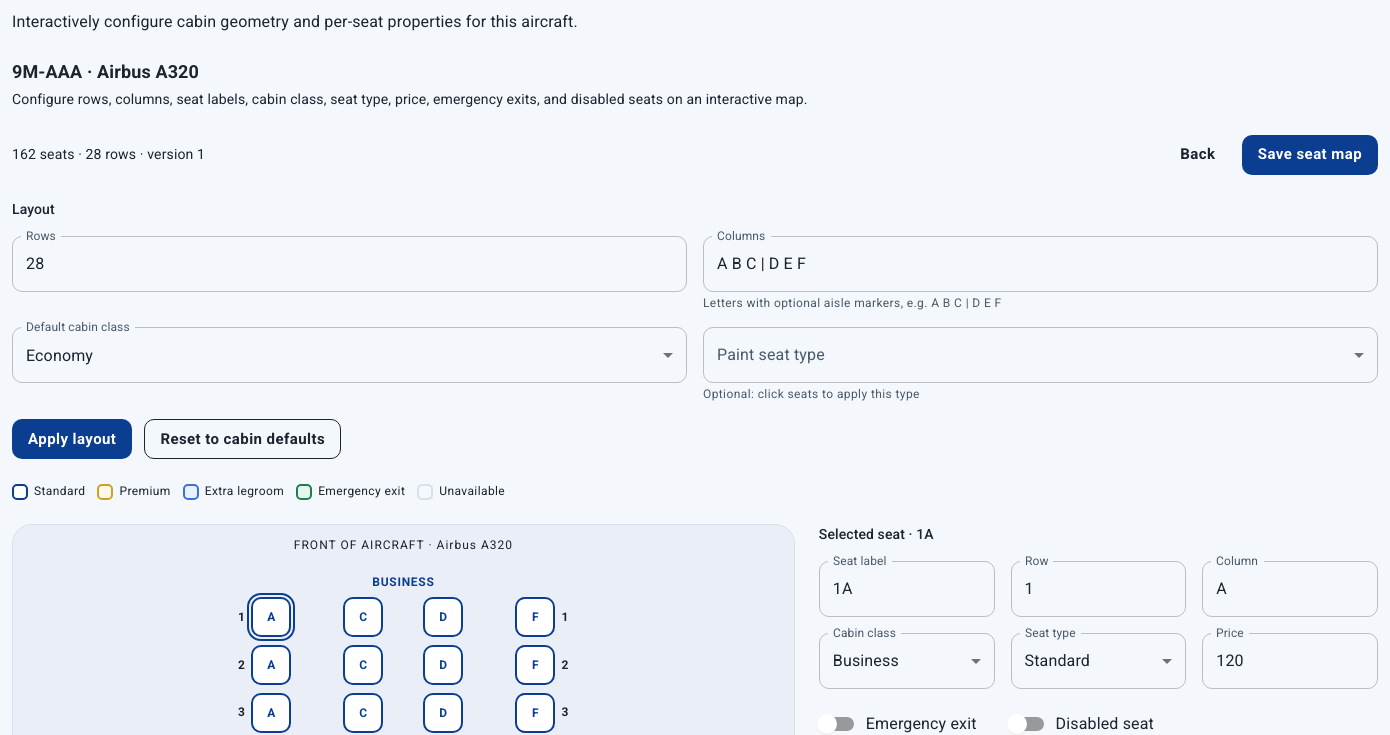
Test: AdminAircraftSeatConfigPage › applies a new row/column layout from the controls
Replace the text in the number field labelled "Rows" with "4": (350, 264) [12,236,687,292]
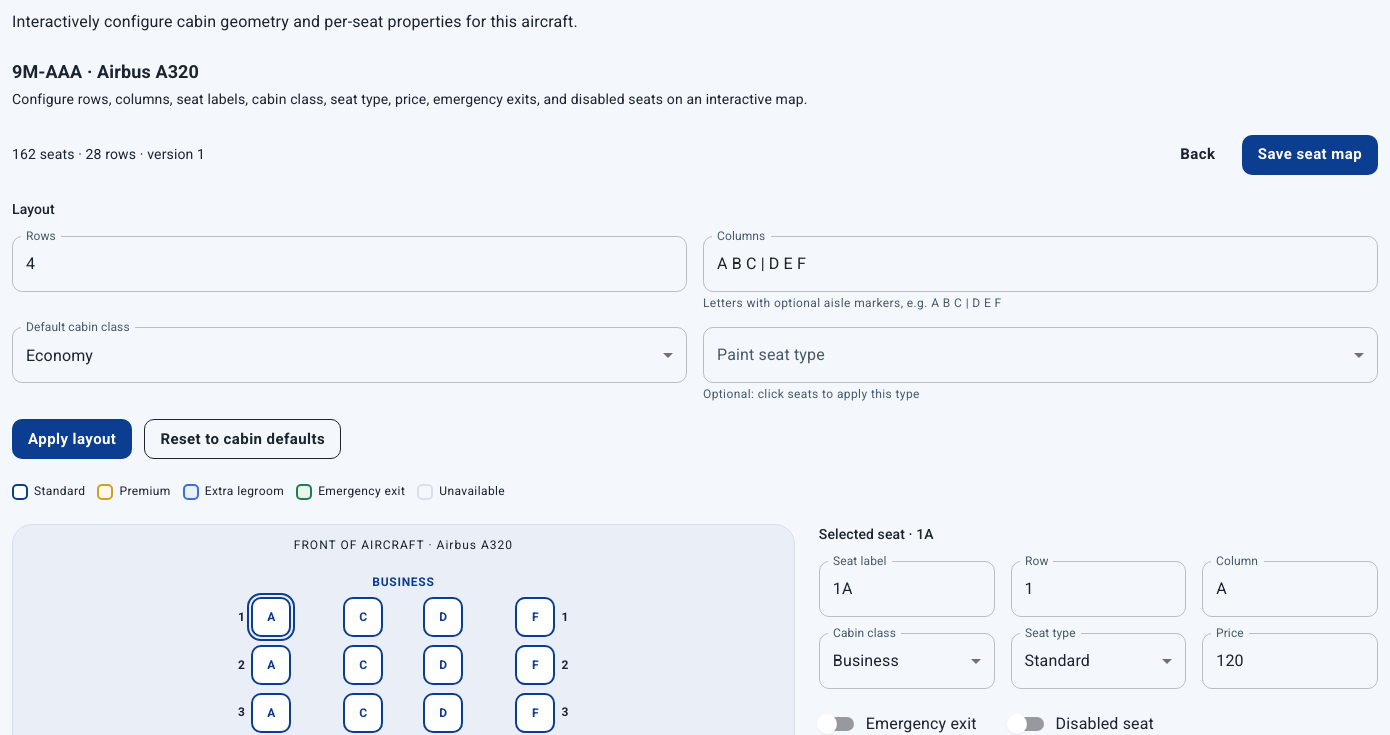
Replace the text in the field labelled "Columns" with "A | F": (1040, 264) [703,236,1378,292]
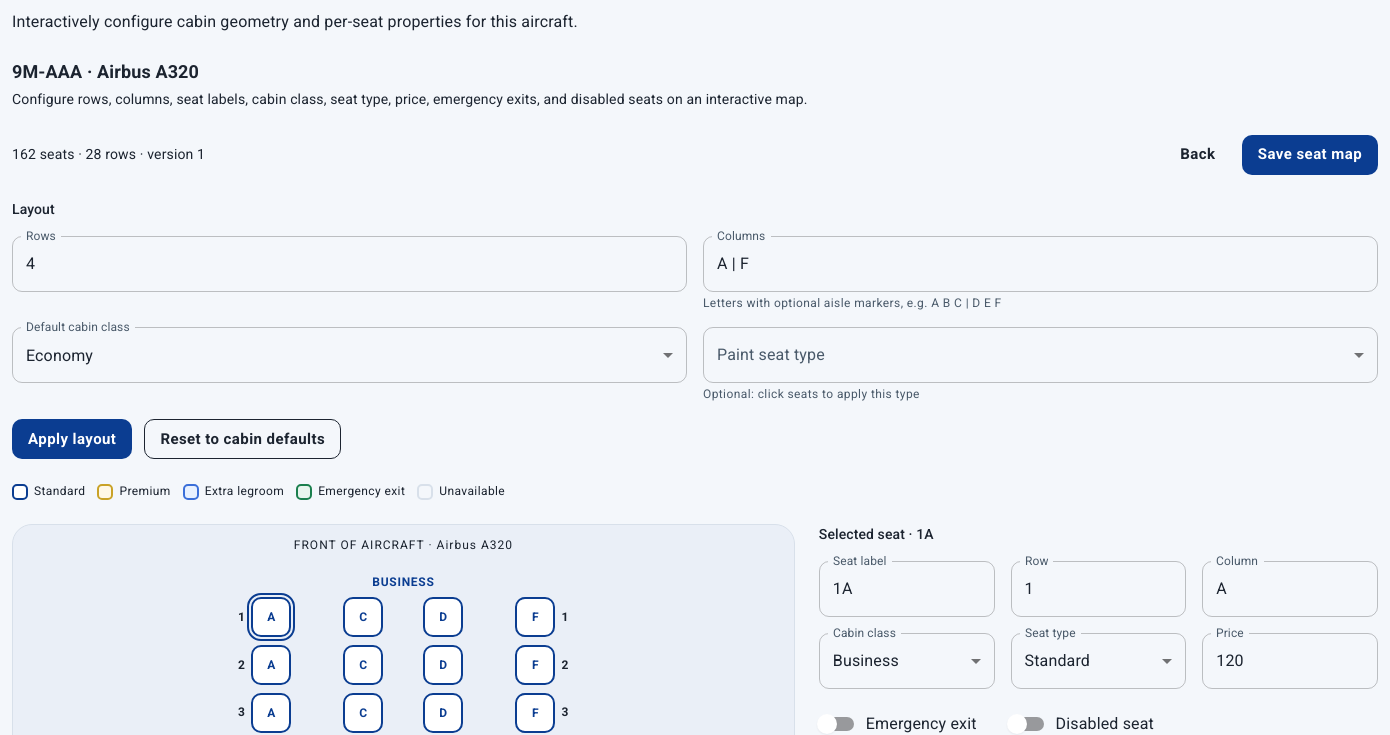
Click the button "Apply layout": (72, 439) [12,419,132,459]
(page scrolled)
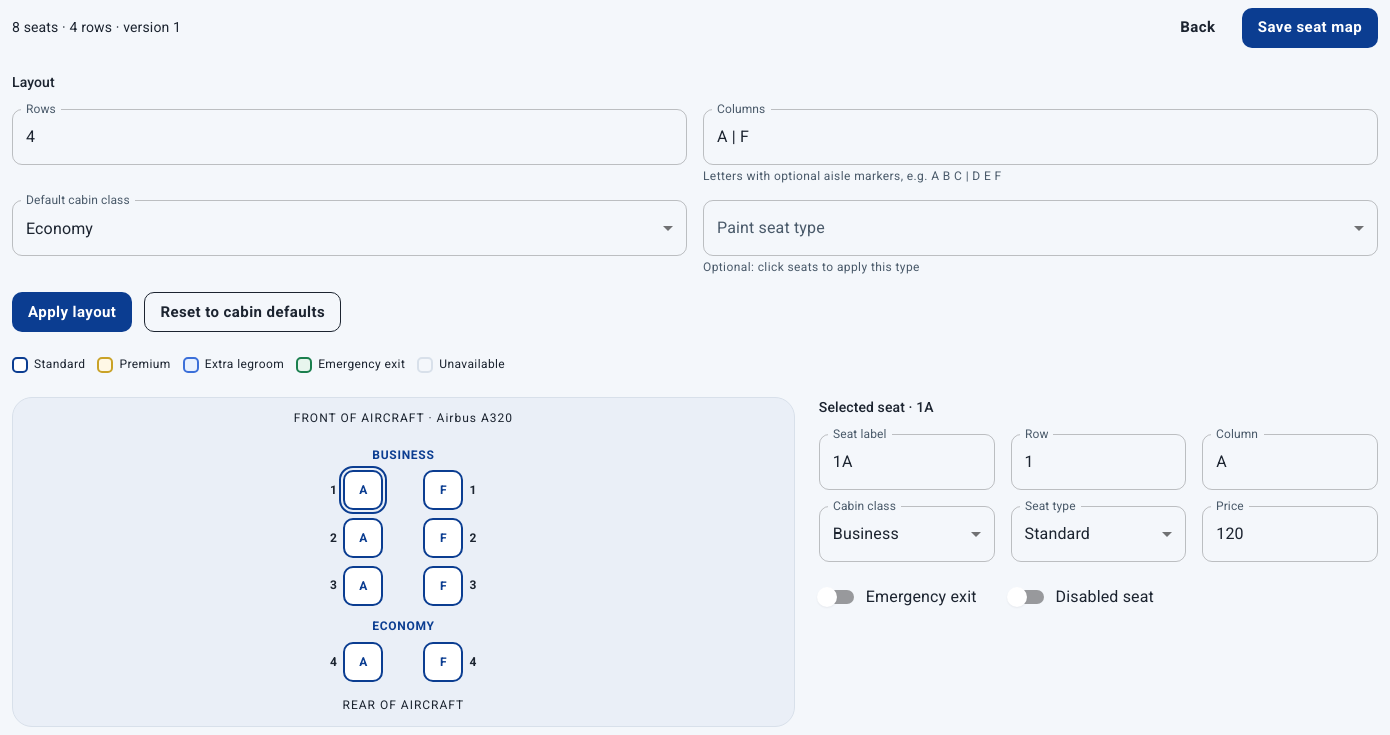
Check: the 4th button "A" is shown, box [343,642,383,682]
Check: the text "8 seats · 4 rows · version 1" is shown, box [12,16,181,39]
